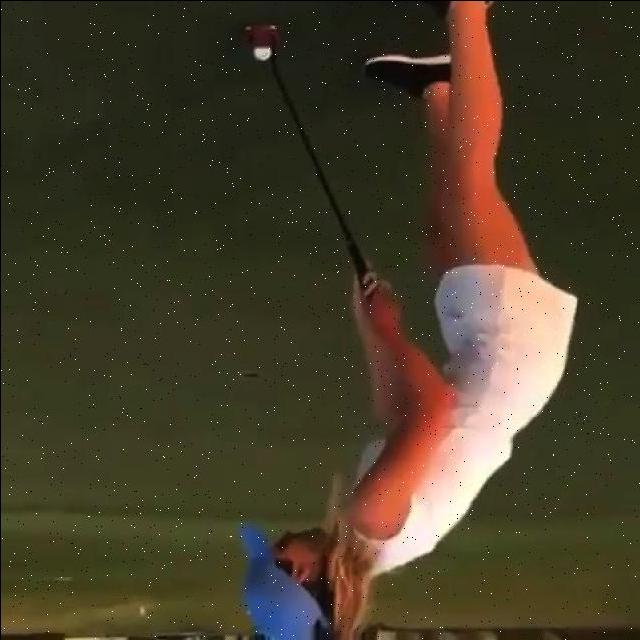ClubHandle: (241, 20, 377, 297)
ClubHead: (245, 23, 280, 51)
GolfBall: (251, 44, 271, 61)
